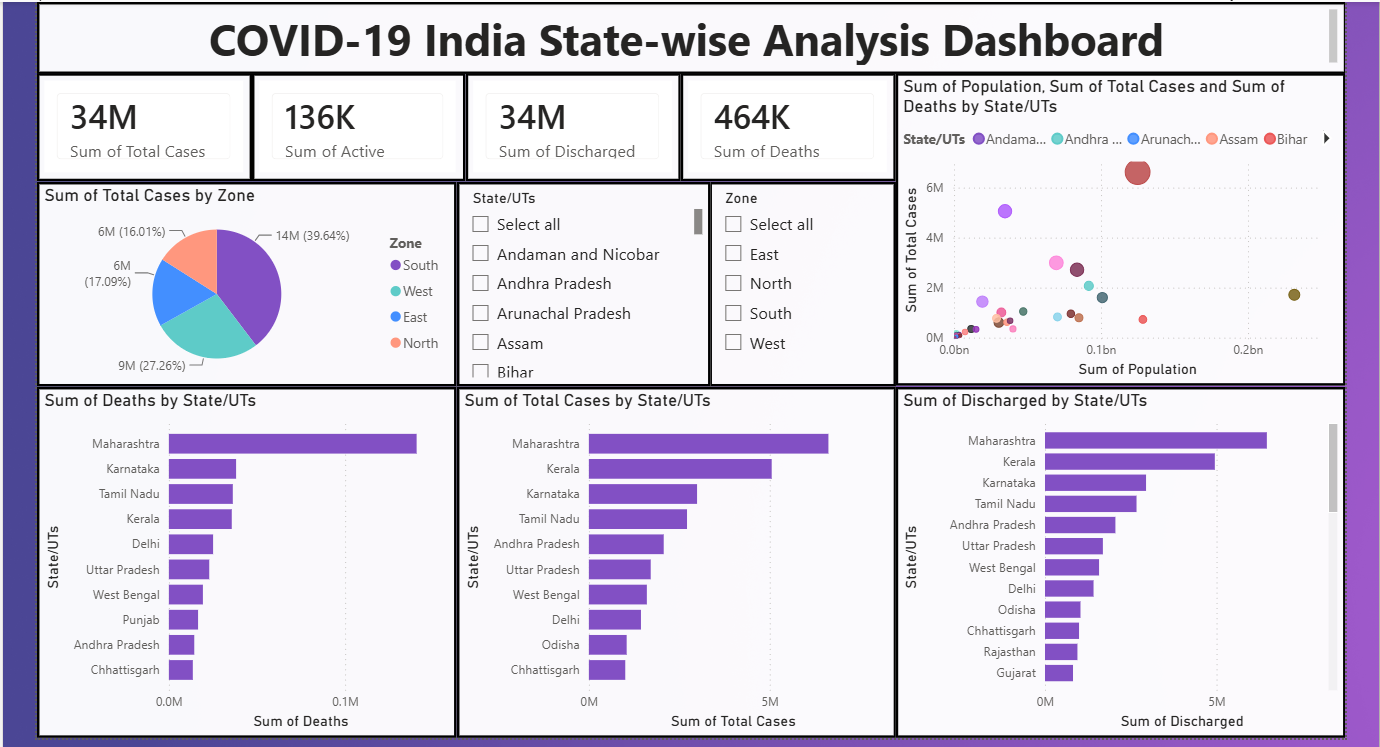

This screenshot's page, from the dashboard's own definition file:
{"tool":"powerbi","page":{"name":"Page 1","canvas":[1280,720],"ordinal":0},"visuals":[{"type":"cardVisual","fields":{"Data":["Sum(Covid Dataset.Total Cases)"]},"box":[0,70.1,210.4,106],"z":0},{"type":"cardVisual","fields":{"Data":["Sum(Covid Dataset.Active)"]},"box":[210.4,70.1,209,106],"z":1000},{"type":"cardVisual","fields":{"Data":["Sum(Covid Dataset.Discharged)"]},"box":[419.4,70.1,210.4,106],"z":2000},{"type":"cardVisual","fields":{"Data":["Sum(Covid Dataset.Deaths)"]},"box":[629.9,70.1,210.4,106],"z":3000},{"type":"clusteredBarChart","fields":{"Category":["Covid Dataset.State/UTs"],"Y":["Sum(Covid Dataset.Total Cases)"]},"box":[410.4,376.1,429.9,343.3],"z":4000},{"type":"pieChart","fields":{"Category":["Covid Dataset.Zone"],"Y":["Sum(Covid Dataset.Total Cases)"]},"box":[0,176.1,410.4,200],"z":5000},{"type":"barChart","fields":{"Category":["Covid Dataset.State/UTs"],"Y":["Sum(Covid Dataset.Deaths)"]},"box":[0,376.1,410.4,343.3],"z":6000},{"type":"scatterChart","fields":{"Series":["Covid Dataset.State/UTs"],"Size":["Sum(Covid Dataset.Deaths)"],"X":["Sum(Covid Dataset.Population)"],"Y":["Sum(Covid Dataset.Total Cases)"]},"box":[840.3,70.1,440.3,306],"z":7000},{"type":"slicer","fields":{"Values":["Covid Dataset.Zone"]},"box":[658.2,176.1,182.1,200],"z":8000},{"type":"slicer","fields":{"Values":["Covid Dataset.State/UTs"]},"box":[410.4,176.1,247.8,200],"z":9000},{"type":"textbox","box":[0,0,1280.6,70.1],"z":10000},{"type":"clusteredBarChart","fields":{"Category":["Covid Dataset.State/UTs"],"Y":["Sum(Covid Dataset.Discharged)"]},"box":[840.3,376.1,440.3,343.3],"z":10001}]}

Visuals, with their boxes in screenshot pixels (x1, y1, x2, y2):
cardVisual - Sum(Covid Dataset.Total Cases): <box>32,72,248,180</box>
cardVisual - Sum(Covid Dataset.Active): <box>248,72,462,180</box>
cardVisual - Sum(Covid Dataset.Discharged): <box>462,72,677,180</box>
cardVisual - Sum(Covid Dataset.Deaths): <box>677,72,893,180</box>
clusteredBarChart - Covid Dataset.State/UTs x Sum(Covid Dataset.Total Cases): <box>453,385,893,737</box>
pieChart - Covid Dataset.Zone x Sum(Covid Dataset.Total Cases): <box>32,180,453,385</box>
barChart - Covid Dataset.State/UTs x Sum(Covid Dataset.Deaths): <box>32,385,453,737</box>
scatterChart - Covid Dataset.State/UTs x Sum(Covid Dataset.Deaths): <box>893,72,1343,385</box>
slicer - Covid Dataset.Zone: <box>706,180,893,385</box>
slicer - Covid Dataset.State/UTs: <box>453,180,706,385</box>
textbox: <box>32,0,1343,72</box>
clusteredBarChart - Covid Dataset.State/UTs x Sum(Covid Dataset.Discharged): <box>893,385,1343,737</box>
